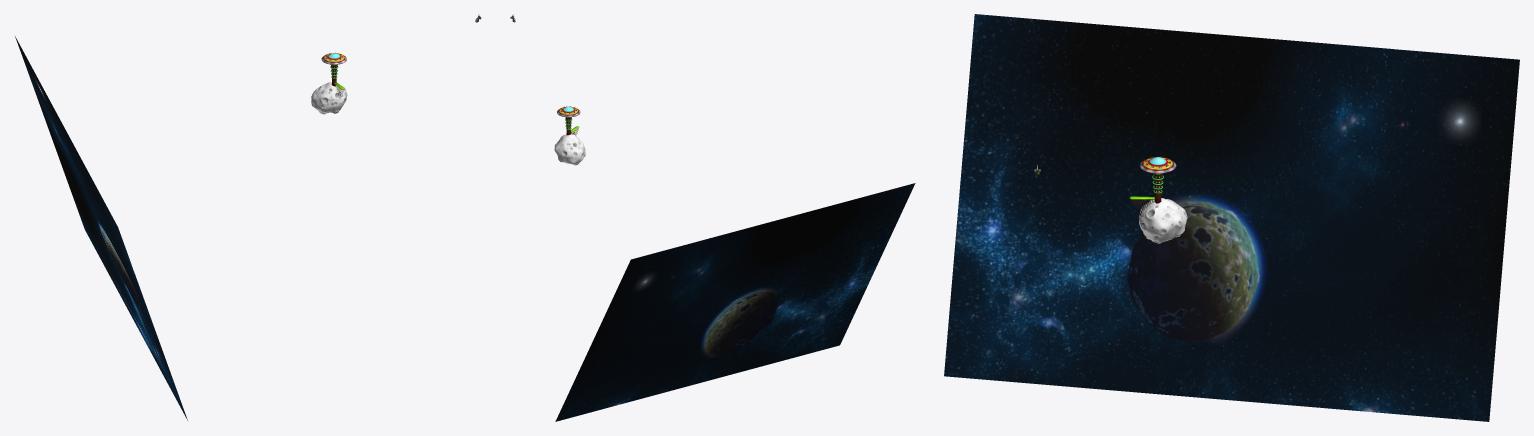
Rendered from lanchonete_cena 1.fbx.
The picture shows the model from 3 angles, left to right: view 1: azimuth 30°, elevation 25°; view 2: azimuth 150°, elevation 25°; view 3: azimuth 270°, elevation 25°; orthographic projection. The views are drawn at different scales.
Visible parts, largest first — view 1: screenshot02182010_000943334.preview, meteoro_lowpoly, lanchonete_base_lowpoly; view 2: screenshot02182010_000943334.preview, meteoro_lowpoly; view 3: screenshot02182010_000943334.preview, meteoro_lowpoly, lanchonete_base_lowpoly.
Part boxes in pixels (left/top/right/bottom): screenshot02182010_000943334.preview: left=15, top=36, right=187, bottom=420; meteoro_lowpoly: left=311, top=82, right=347, bottom=114; lanchonete_base_lowpoly: left=321, top=52, right=346, bottom=97; screenshot02182010_000943334.preview: left=555, top=183, right=915, bottom=421; meteoro_lowpoly: left=554, top=134, right=585, bottom=165; screenshot02182010_000943334.preview: left=944, top=14, right=1519, bottom=421; meteoro_lowpoly: left=1139, top=198, right=1187, bottom=243; lanchonete_base_lowpoly: left=1129, top=156, right=1176, bottom=215.
Bounding box in the file's own units: 4798 × 3350 × 3991.
